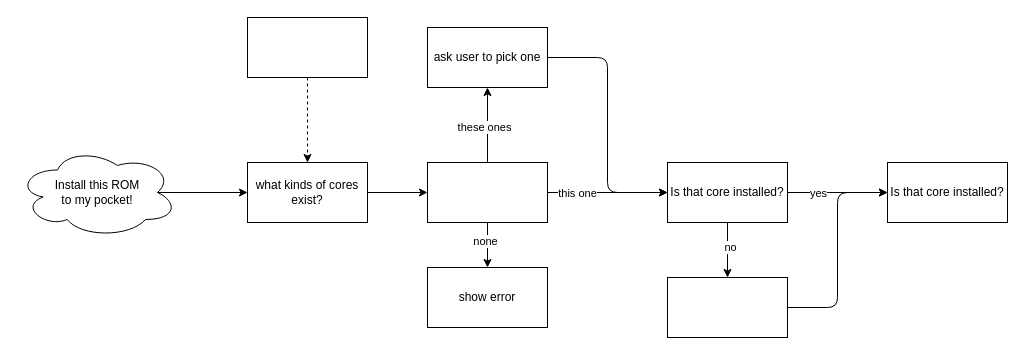
The diagram is 1025 pixels wide and 355 high, and some of its shapes have lost their labels. Here are the shapes that lost their labels. From the top down, the box of each, then its label:
(246, 16, 368, 78): core library
(426, 162, 548, 222): which core supports this?
(666, 276, 788, 338): install the core
